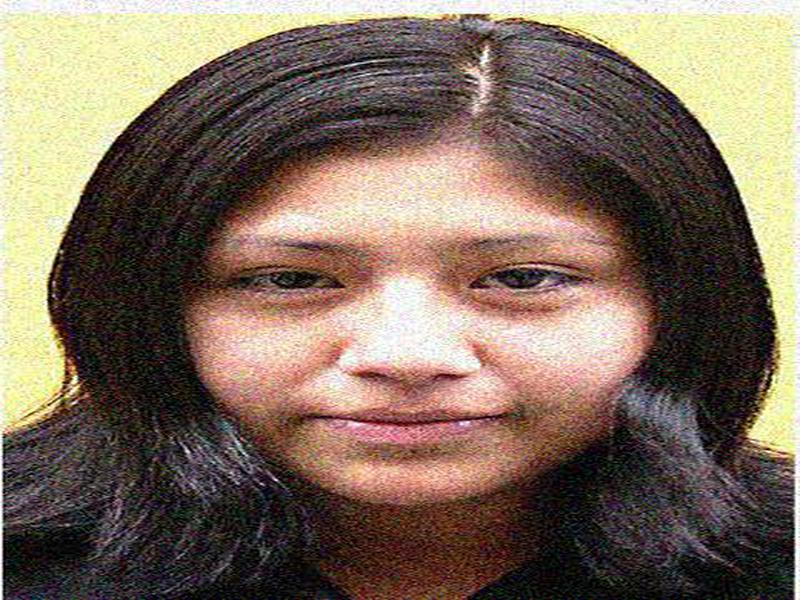without_mask: (199, 165, 638, 504)
